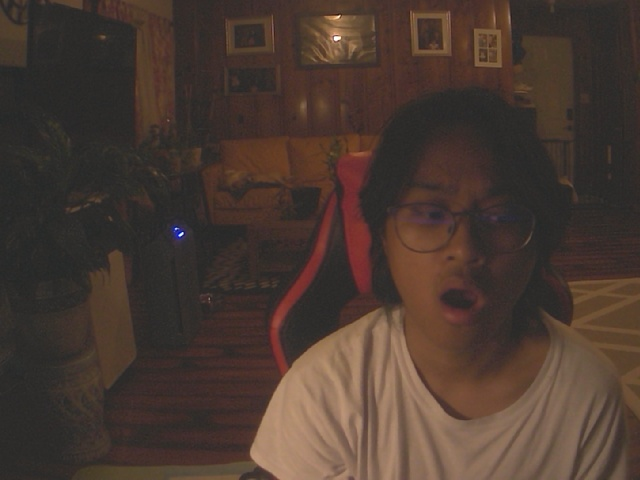fear: (356, 85, 573, 353)
